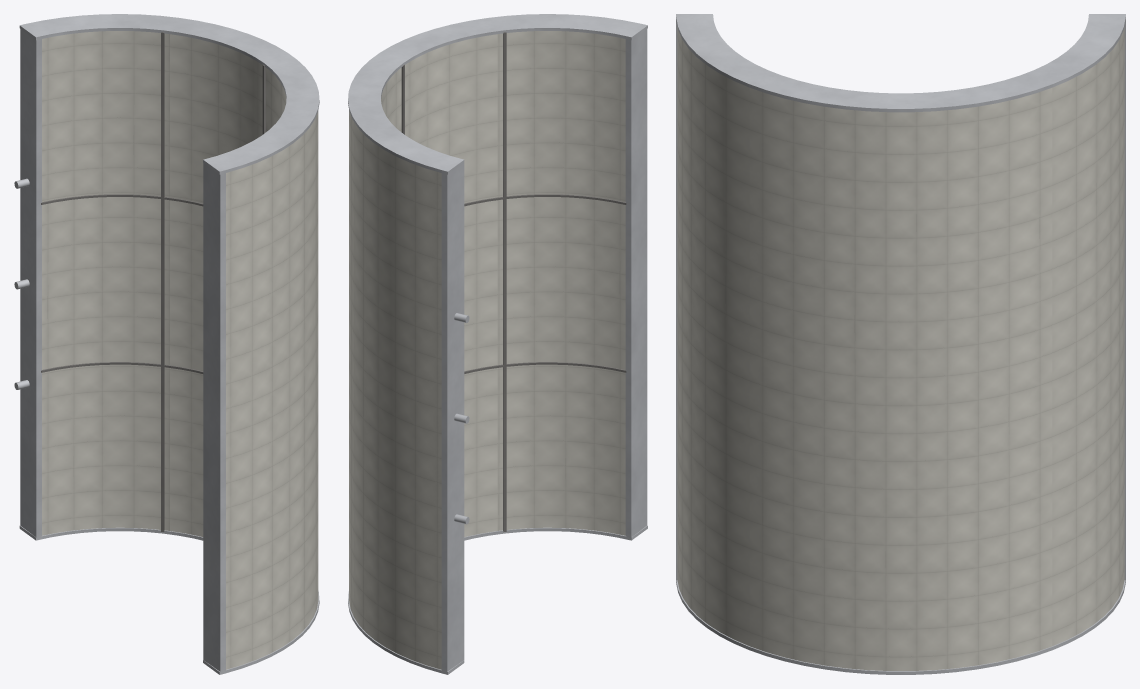
The model's file is tank10_water_wall_m.glb.
3 renders of one model, left to right at view 1: azimuth 30°, elevation 25°; view 2: azimuth 150°, elevation 25°; view 3: azimuth 270°, elevation 25°, orthographic. The views are drawn at different scales.
Visible parts, largest first — view 1: bladder, edge_frame, quilt_seams; view 2: bladder, edge_frame, quilt_seams; view 3: bladder, edge_frame.
Part boxes in pixels (x1,y1,x2,y2): bladder: (42, 31, 318, 669); edge_frame: (19, 14, 319, 674); quilt_seams: (41, 32, 265, 531); bladder: (349, 31, 625, 669); edge_frame: (348, 14, 647, 674); quilt_seams: (401, 32, 626, 532); bladder: (677, 27, 1124, 670); edge_frame: (676, 14, 1125, 674).
Bounding box in the file's own units: 1.94 × 5.07 × 3.65.
Materials: 3 (3 with a texture image).
